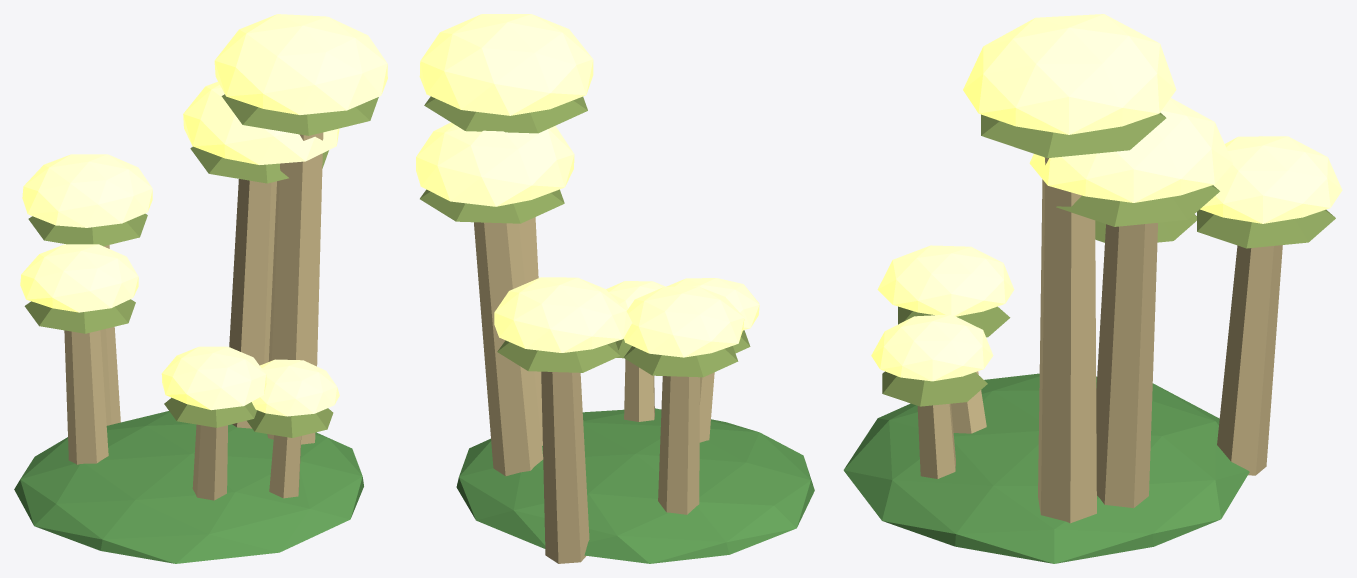
The model's file is glowcap_mushroom.glb.
The picture shows the model from 3 angles, left to right: view 1: azimuth 30°, elevation 25°; view 2: azimuth 150°, elevation 25°; view 3: azimuth 270°, elevation 25°; orthographic projection. The views are drawn at different scales.
Visible parts, largest first — view 1: glowcap_mushroom.001; view 2: glowcap_mushroom.001; view 3: glowcap_mushroom.001.
Part boxes in pixels (x1,y1,x2,y2): glowcap_mushroom.001: [14, 14, 387, 563]; glowcap_mushroom.001: [416, 14, 814, 563]; glowcap_mushroom.001: [843, 14, 1342, 563].
Bounding box in the file's own units: 0.2719 × 0.32 × 0.2802.
